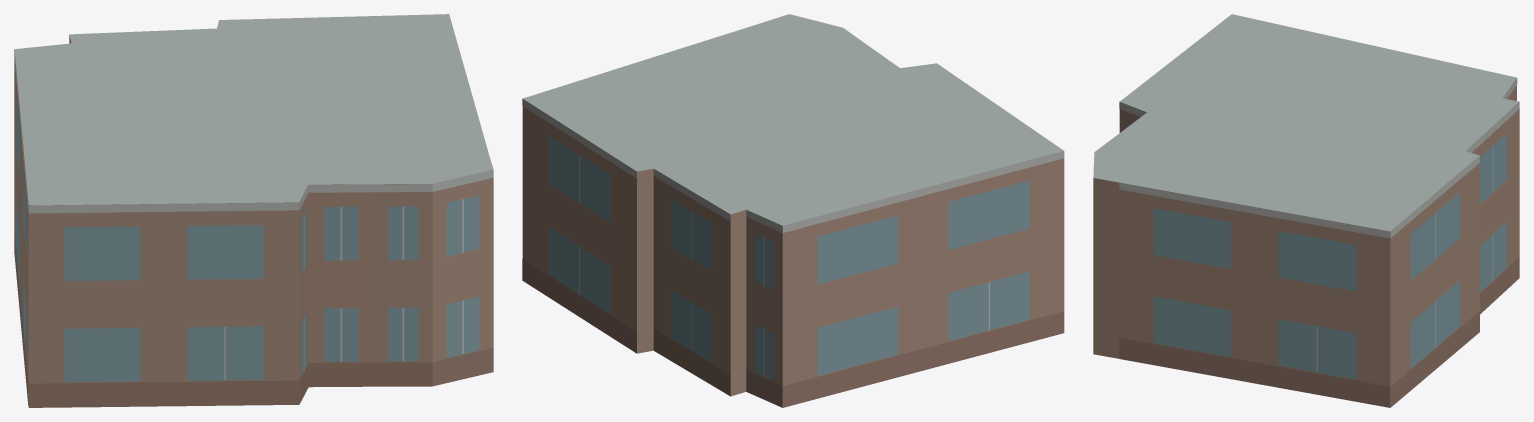
The model's file is survey-upis-32496414.glb.
The picture shows the model from 3 angles, left to right: view 1: azimuth 30°, elevation 25°; view 2: azimuth 150°, elevation 25°; view 3: azimuth 270°, elevation 25°; orthographic projection. The views are drawn at different scales.
Visible parts, largest first — view 1: survey-upis-32496414.tmp; view 2: survey-upis-32496414.tmp; view 3: survey-upis-32496414.tmp.
Boxes of the visible parts, <box> form: survey-upis-32496414.tmp: <box>14,14,493,407</box>; survey-upis-32496414.tmp: <box>522,14,1064,407</box>; survey-upis-32496414.tmp: <box>1093,14,1519,407</box>.
Size of the model in its own units: 16.14 by 6.1 by 13.37.
